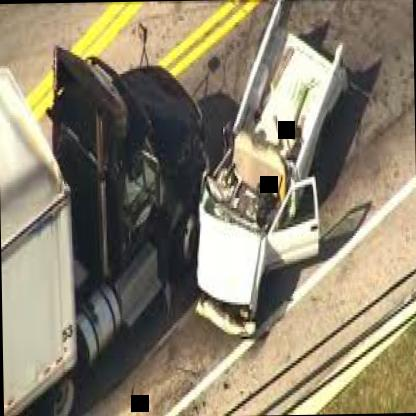accident: (43, 13, 382, 390)
